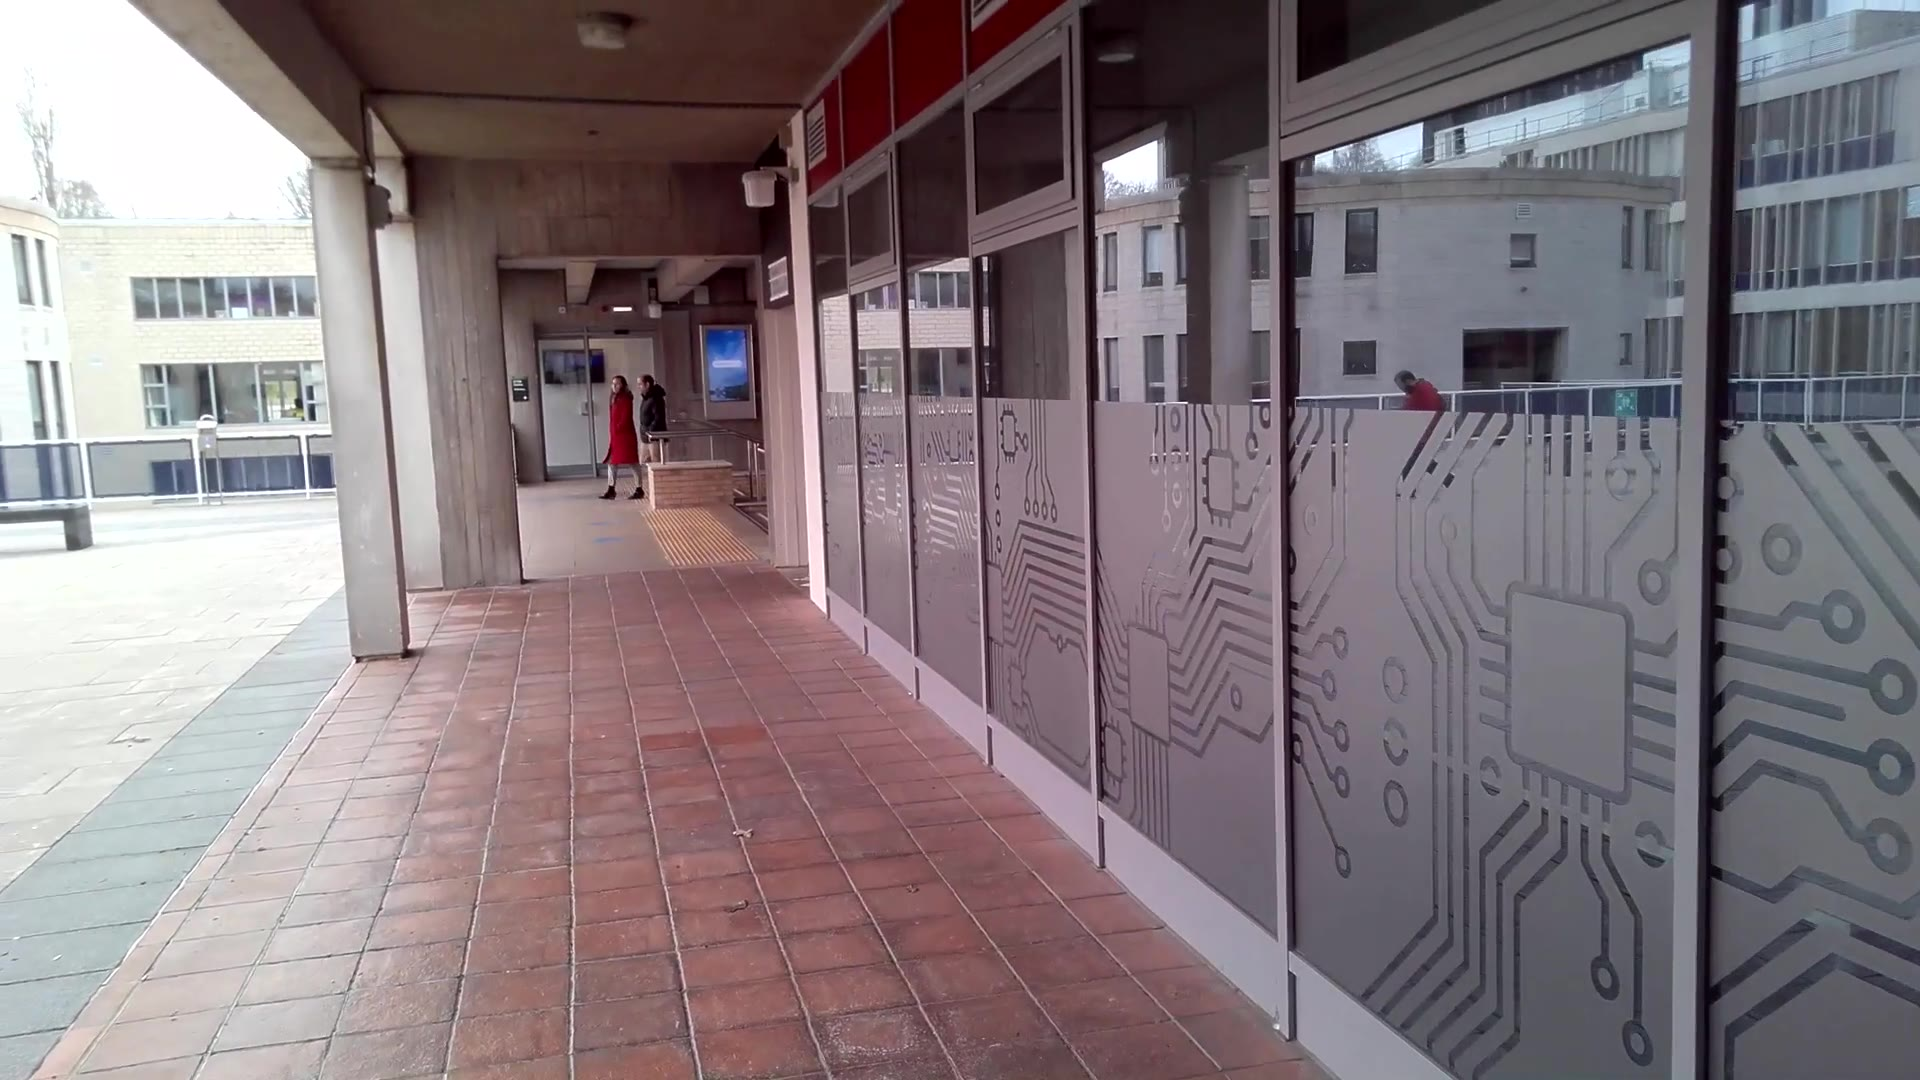Person: (600, 371, 637, 509), (633, 371, 666, 482)
